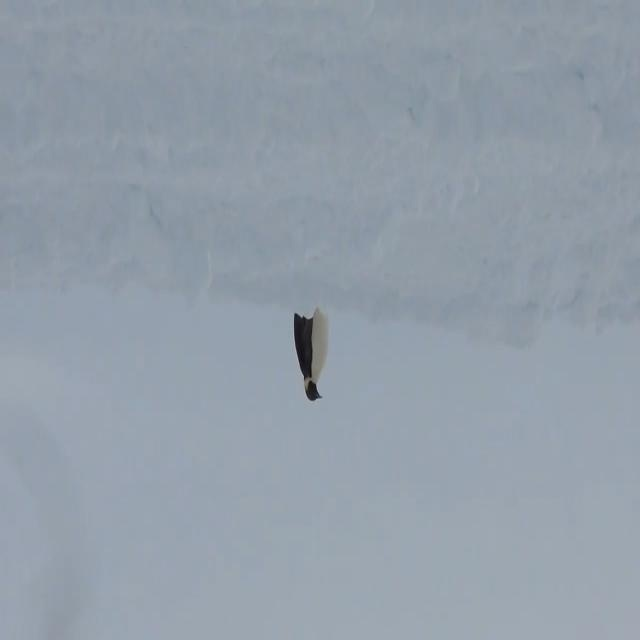penguin: (292, 310, 331, 401)
